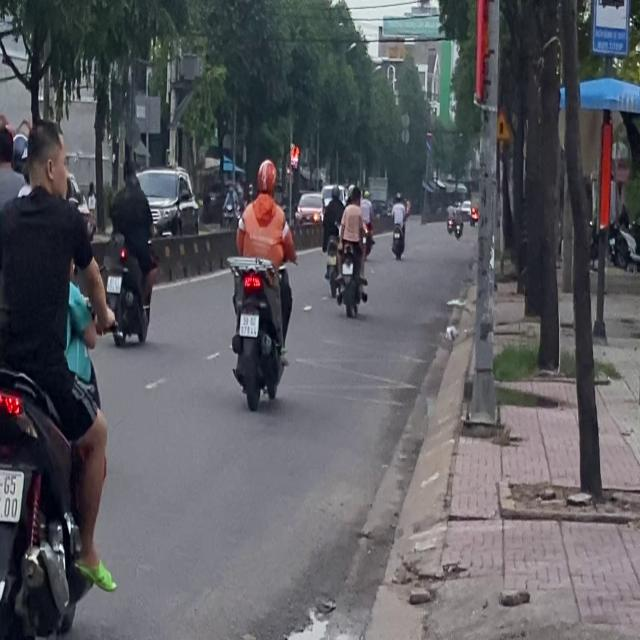helmet: (10, 123, 30, 181), (253, 158, 277, 198)
licenseplate: (0, 113, 117, 635), (226, 157, 294, 408), (103, 154, 157, 346)
motorcyclist: (24, 120, 68, 198), (0, 114, 15, 174)
nohelmet: (0, 468, 22, 519), (239, 313, 258, 335), (106, 276, 120, 292)
